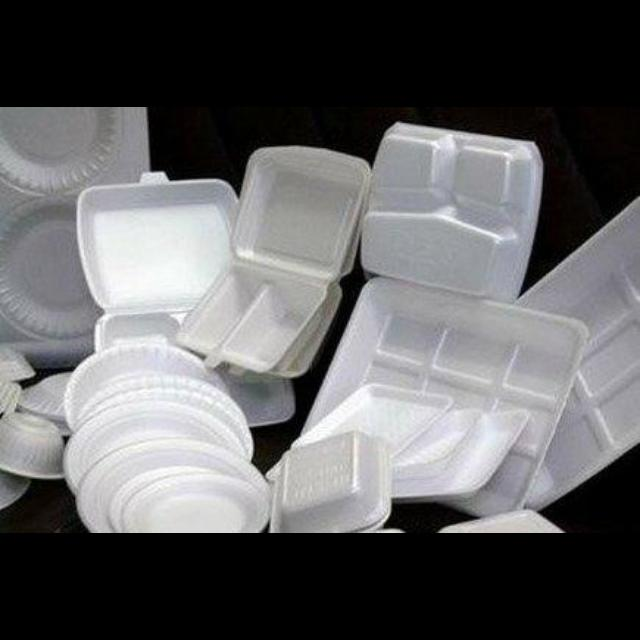plastic_box: (0, 108, 638, 530)
